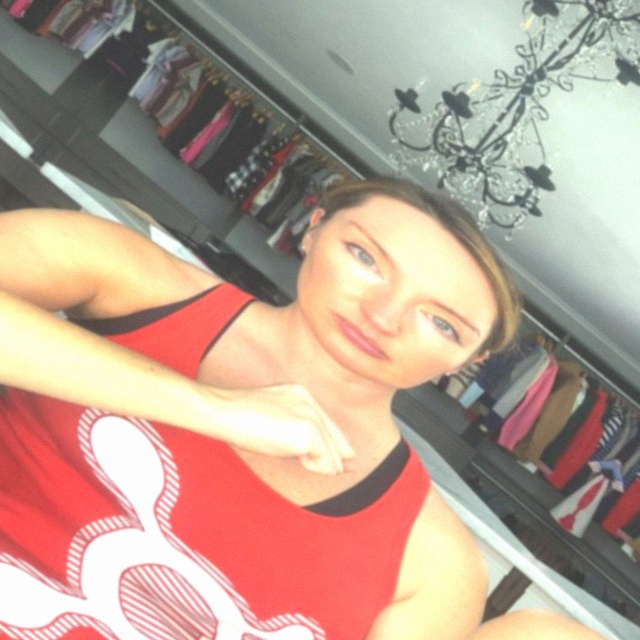Rock: (204, 350, 383, 522)
